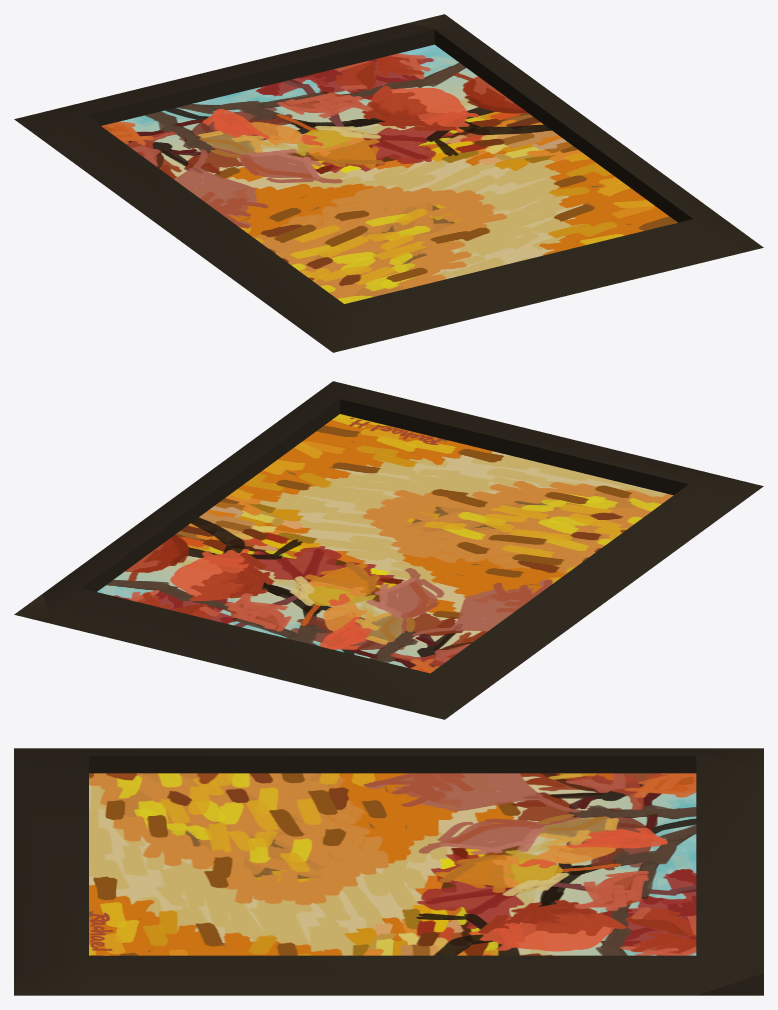
File: Painting27.fbx
3 views of the same model, one above another, from view 1: azimuth 30°, elevation 25°; view 2: azimuth 150°, elevation 25°; view 3: azimuth 270°, elevation 25° (orthographic). The views are drawn at different scales.
Visible parts, largest first — view 1: pPlane1, pCube1; view 2: pPlane1, pCube1; view 3: pPlane1, pCube1.
Boxes of the visible parts, x1,y1,x2,y2 form: pPlane1: [101, 44, 677, 303]; pCube1: [14, 14, 763, 352]; pPlane1: [97, 414, 673, 673]; pCube1: [14, 381, 763, 719]; pPlane1: [89, 773, 696, 955]; pCube1: [14, 748, 763, 995].
Bounding box in the file's own units: 6.54 × 0.4312 × 8.4.
2 materials, 1 textured.
